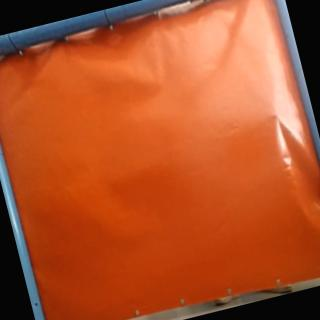Hit-hRxx: (266, 106, 286, 122)
